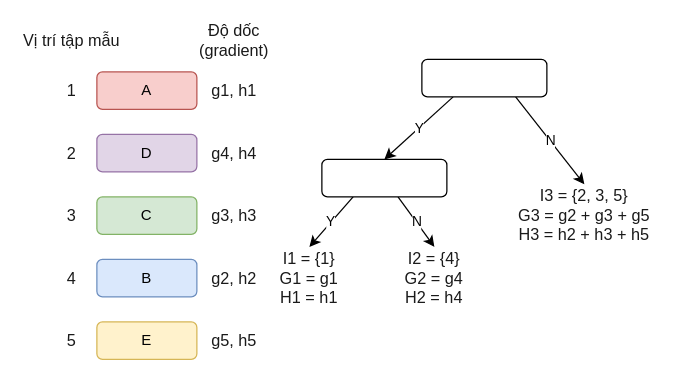
This 680x381 diagram has some shape labels left out. The shapes that lost their labels are listed below. From the top down, each one's centre as x and y in pixels, then its label:
At pixel 484 77: "Đặc trưng 1 < 40".
At pixel 384 177: "nhóm 1?".
